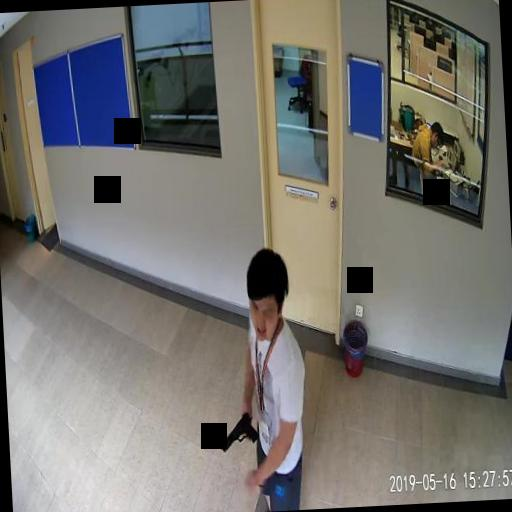Handgun: (219, 410, 256, 449)
